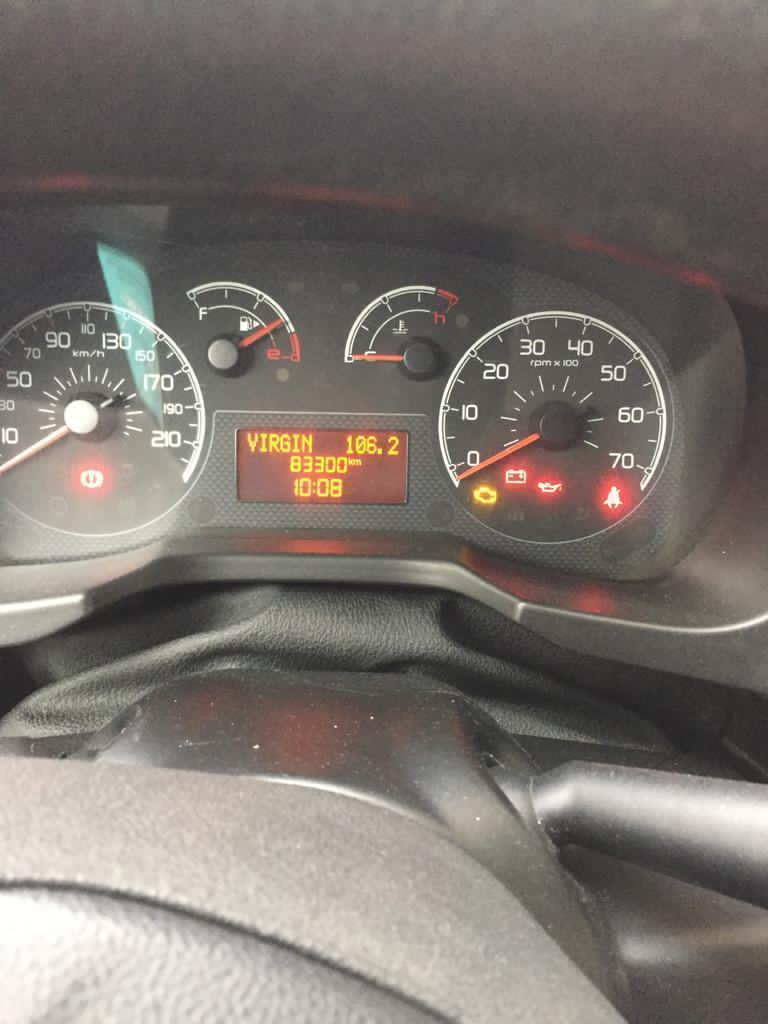,: (377, 446, 382, 455)
0: (299, 477, 311, 497), (317, 477, 329, 496), (355, 434, 366, 454), (336, 455, 347, 473), (325, 455, 336, 472)
1: (345, 433, 354, 454), (294, 478, 298, 496)
2: (386, 435, 399, 455)
3: (314, 454, 324, 472), (303, 454, 312, 472)
6: (366, 435, 377, 454)
8: (289, 455, 302, 473), (330, 478, 342, 496)
X: (245, 431, 258, 452), (301, 431, 313, 453), (280, 433, 291, 453), (269, 432, 279, 452), (291, 432, 300, 453), (259, 431, 267, 453), (352, 458, 363, 466), (311, 479, 316, 494), (347, 455, 352, 465)
odometer: (230, 422, 413, 507)
